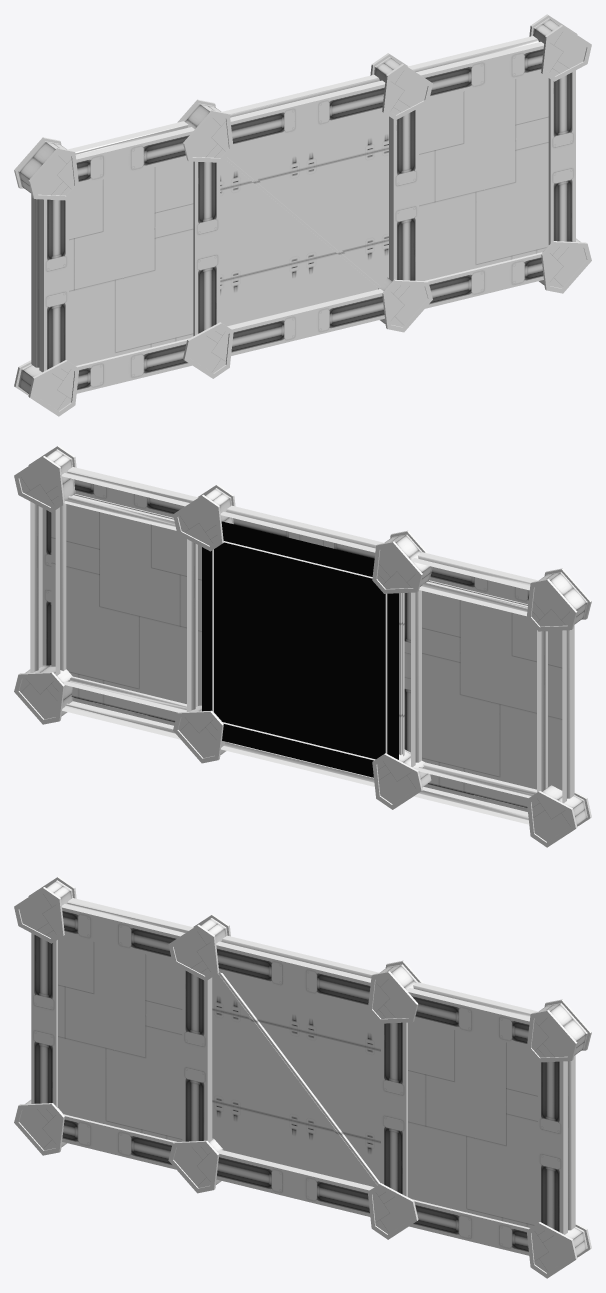
File: DoorHorizontal_VF.FBX
3 renders of one model, top to bottom at view 1: azimuth 30°, elevation 25°; view 2: azimuth 150°, elevation 25°; view 3: azimuth 330°, elevation 25°, orthographic.
Parts seen in each view (by area): view 1: DoorOpen_Horizontal, DoorR, DoorL; view 2: DoorOpen_Horizontal, DoorL; view 3: DoorOpen_Horizontal, DoorL, DoorR.
Part boxes in pixels (left/top/right/bottom): DoorOpen_Horizontal: left=14, top=14, right=591, bottom=416; DoorR: left=227, top=111, right=388, bottom=286; DoorL: left=220, top=157, right=381, bottom=325; DoorOpen_Horizontal: left=14, top=445, right=591, bottom=847; DoorL: left=399, top=593, right=404, bottom=756; DoorOpen_Horizontal: left=14, top=876, right=591, bottom=1278; DoorL: left=212, top=973, right=377, bottom=1186; DoorR: left=218, top=972, right=380, bottom=1184.
Size of the model in its own units: 180 by 81.95 by 8.85.
